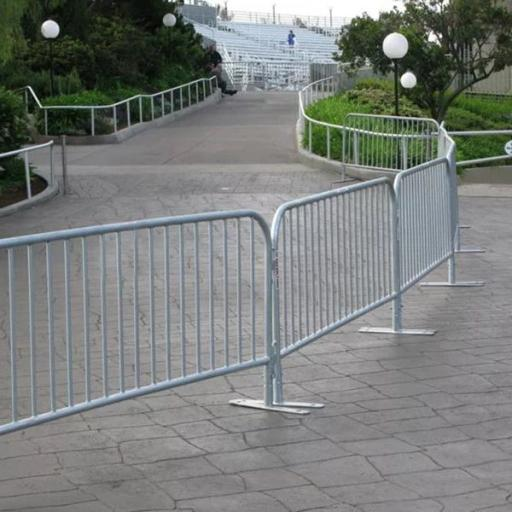bus_stop: (0, 83, 461, 433), (0, 158, 455, 432)
